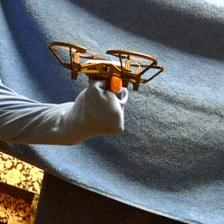drone: (48, 42, 165, 93)
